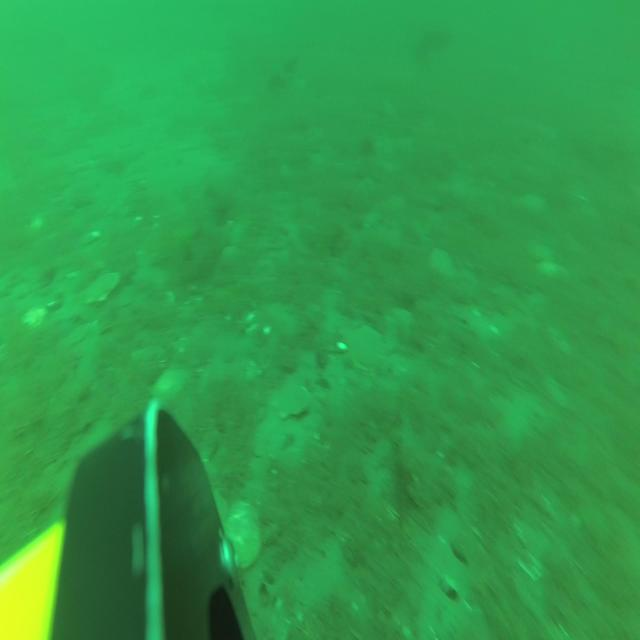scallop: (225, 498, 261, 568), (350, 323, 383, 372), (272, 382, 310, 418), (84, 270, 120, 304)
